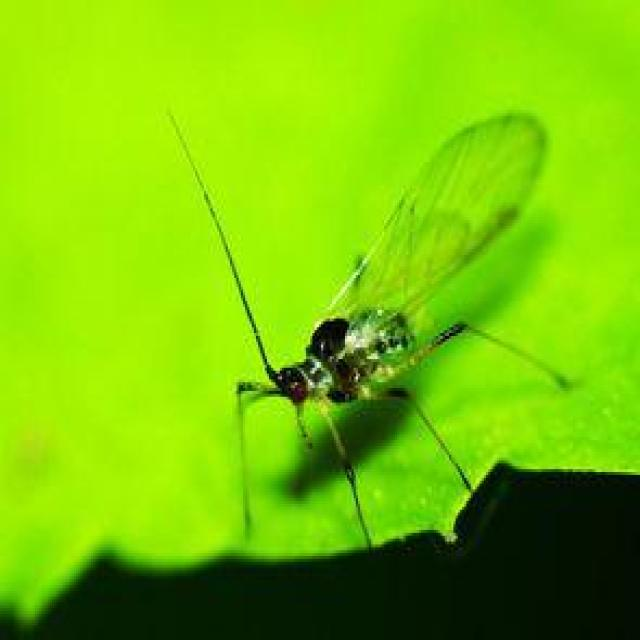Aphids: (125, 99, 585, 560)
